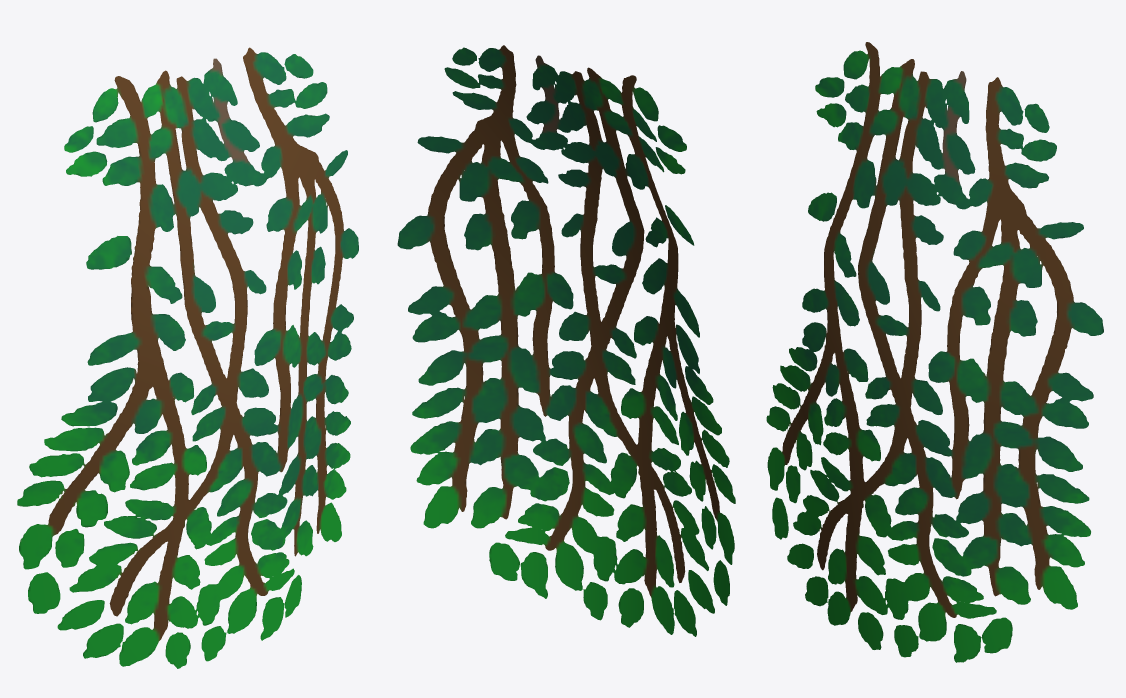
File: planta_caida.fbx
3 views of the same model, side by side, from view 1: azimuth 30°, elevation 25°; view 2: azimuth 150°, elevation 25°; view 3: azimuth 330°, elevation 25° (orthographic).
Parts seen in each view (by area): view 1: Plane; view 2: Plane; view 3: Plane.
Boxes of the visible parts, left/top/right/bottom form: Plane: left=17, top=47, right=358, bottom=668; Plane: left=397, top=45, right=735, bottom=636; Plane: left=766, top=42, right=1103, bottom=662.
Size of the model in its own units: 28.11 by 45.45 by 5.48.
